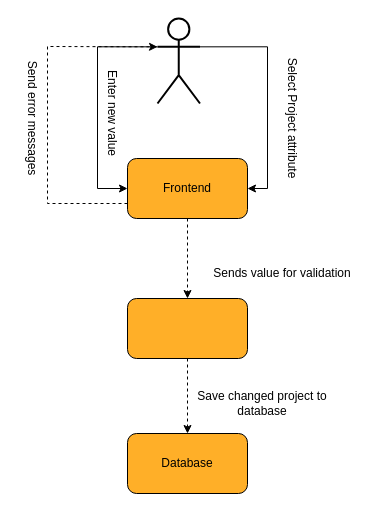
Some shapes in this 374 by 511 pixel diagram are drawn without their labels. The shapes that lost their labels are listed below. From the top down, each one's centre as x and y in pixels, then its label:
(x=178, y=60): Manager
(x=187, y=328): REST API
